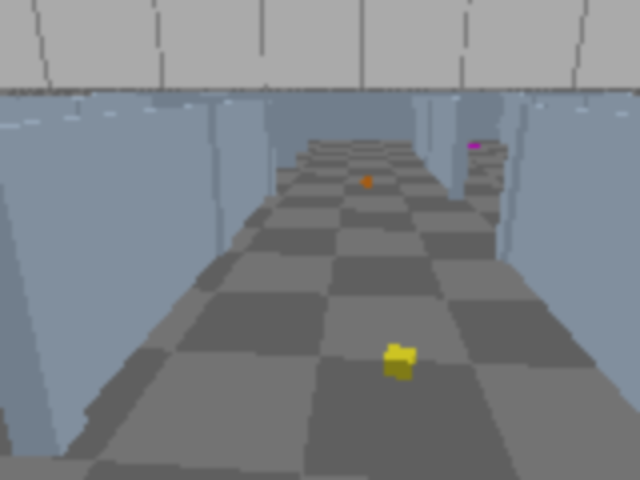puck: (383, 344, 415, 381)
